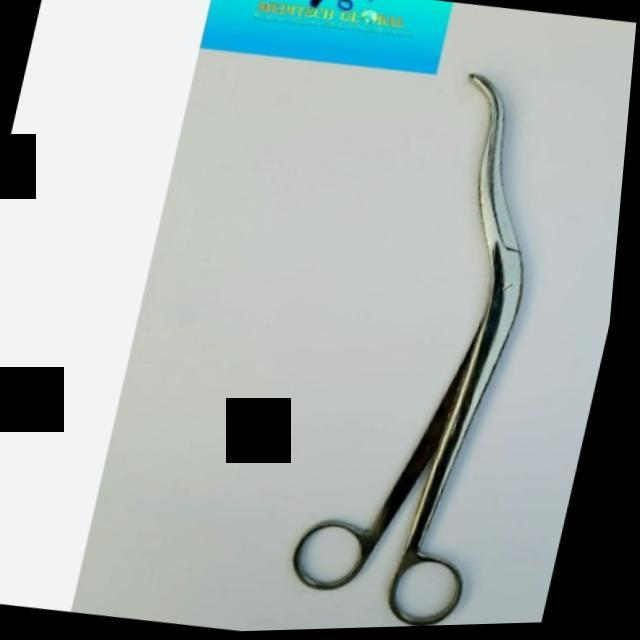Cheatle Forceps: (284, 64, 598, 632)
